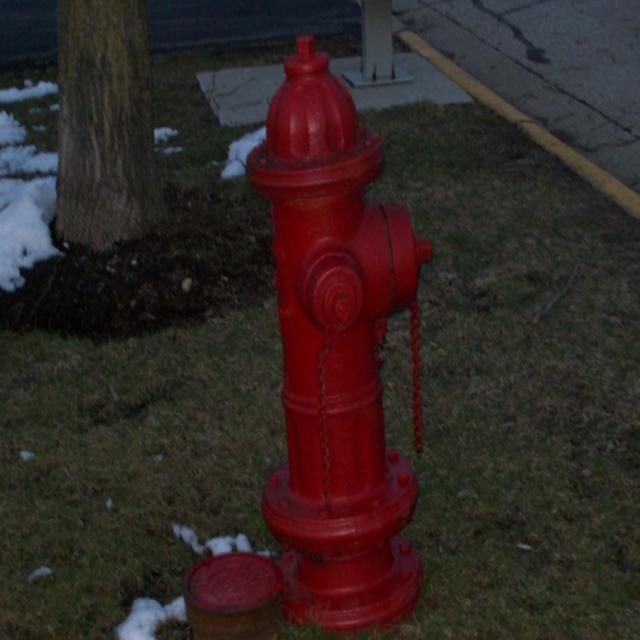fire_hydrant: (244, 34, 432, 630)
